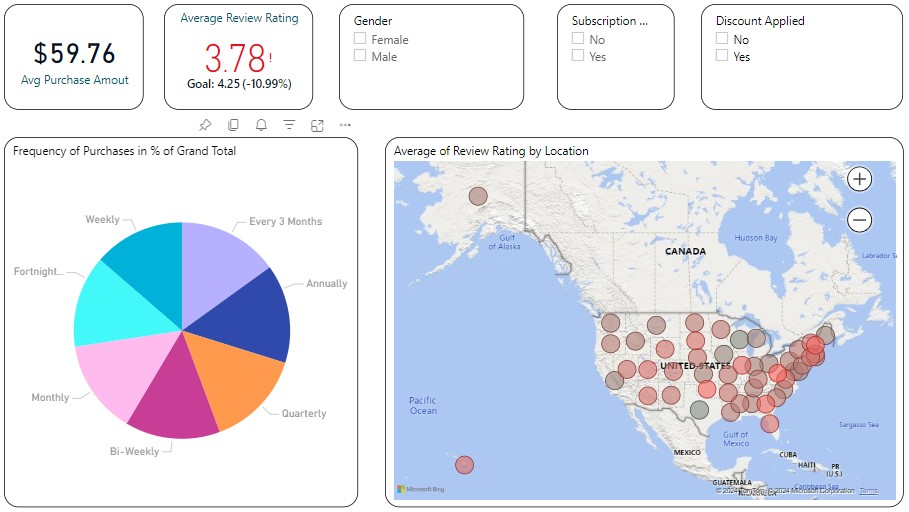

What the dashboard file says about the page in this screenshot:
{"tool":"powerbi","page":{"name":"Overview","canvas":[1280,720],"ordinal":0},"visuals":[{"type":"card","fields":{"Values":["shopping_trends_updated.Avg Purchase Amout"]},"box":[23,10.1,190.1,144],"z":0},{"type":"kpi","title":"Average Review Rating","fields":{"Goal":["shopping_trends_updated.Avg Target Rating"],"Indicator":["shopping_trends_updated.Avg Review Rating"],"TrendLine":["shopping_trends_updated.Item Purchased"]},"box":[240.5,10.1,203,144],"z":1000},{"type":"slicer","title":"Gender","fields":{"Values":["shopping_trends_updated.Gender"]},"box":[479.5,10.1,252,144],"z":2000},{"type":"map","fields":{"Category":["shopping_trends_updated.Location"],"Size":["Avg(shopping_trends_updated.Review Rating)"]},"box":[541.4,190.1,705.6,504],"z":3000},{"type":"slicer","fields":{"Values":["shopping_trends_updated.Subscription Status"]},"box":[776.2,10.1,159.8,144],"z":4000},{"type":"slicer","fields":{"Values":["shopping_trends_updated.Discount Applied"]},"box":[972,10.1,275,144],"z":5000},{"type":"pieChart","title":"Frequency of Purchases in % of Grand Total","fields":{"Category":["shopping_trends_updated.Frequency of Purchases"],"Y":["Sum(shopping_trends_updated.Purchase Amount (USD))"]},"box":[23,190.1,482.4,504],"z":6000}]}

Visuals, with their boxes in screenshot pixels (x1, y1, x2, y2), scaled from the page's 1280x720 canvas onto the 909x512 screenshot:
card - shopping_trends_updated.Avg Purchase Amout: (x1=16, y1=7, x2=151, y2=110)
"Average Review Rating" kpi: (x1=171, y1=7, x2=315, y2=110)
"Gender" slicer: (x1=341, y1=7, x2=519, y2=110)
map - shopping_trends_updated.Location x Avg(shopping_trends_updated.Review Rating): (x1=384, y1=135, x2=886, y2=494)
slicer - shopping_trends_updated.Subscription Status: (x1=551, y1=7, x2=665, y2=110)
slicer - shopping_trends_updated.Discount Applied: (x1=690, y1=7, x2=886, y2=110)
"Frequency of Purchases in % of Grand Total" pieChart: (x1=16, y1=135, x2=359, y2=494)
